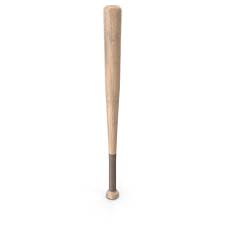baseball bat: (102, 3, 123, 201)
